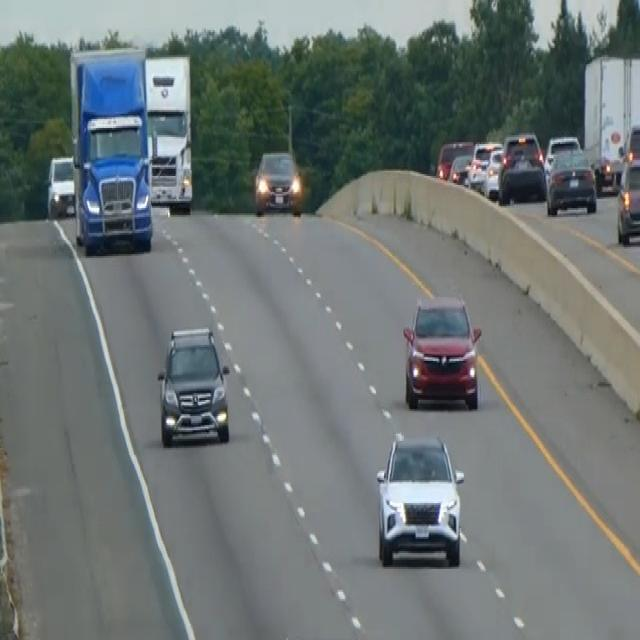car: (401, 292, 482, 411), (245, 132, 311, 230), (545, 146, 597, 215), (253, 148, 301, 215), (497, 148, 546, 205), (615, 153, 639, 245), (45, 153, 75, 219), (467, 139, 501, 192), (435, 137, 473, 181), (543, 134, 580, 174), (482, 146, 504, 199), (448, 151, 472, 187)
jeep: (373, 428, 466, 569), (155, 322, 231, 448)
lorry: (68, 44, 154, 254)
